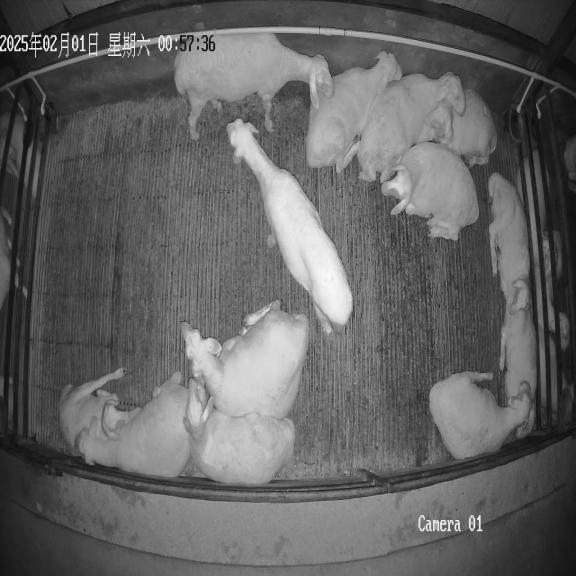lying: (181, 301, 309, 418), (183, 378, 295, 485), (77, 372, 190, 478), (357, 72, 465, 181), (306, 52, 402, 173), (381, 142, 479, 241), (429, 372, 533, 459), (59, 368, 135, 454), (488, 172, 530, 320), (427, 89, 497, 167), (499, 306, 537, 436)
stand: (227, 119, 353, 334), (174, 32, 334, 140)
